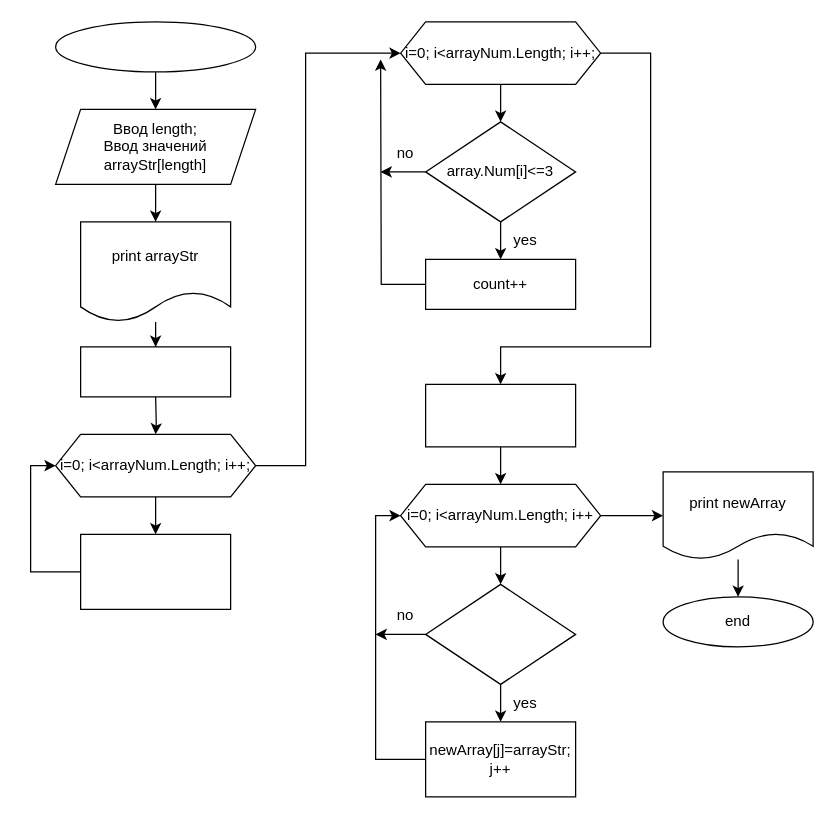
The diagram is 835 pixels wide and 819 high, and some of its shapes have lost their labels. Each missing label, with the centre of its shape:
"arrayNum[i]<=3" belongs at point 500,633.
"arrayNum[i]= arrayStr[i].Length" belongs at point 155,571.
"arrayNum[length]" belongs at point 155,371.
"newArray[count]; j=0" belongs at point 500,415.
"start" belongs at point 155,46.
